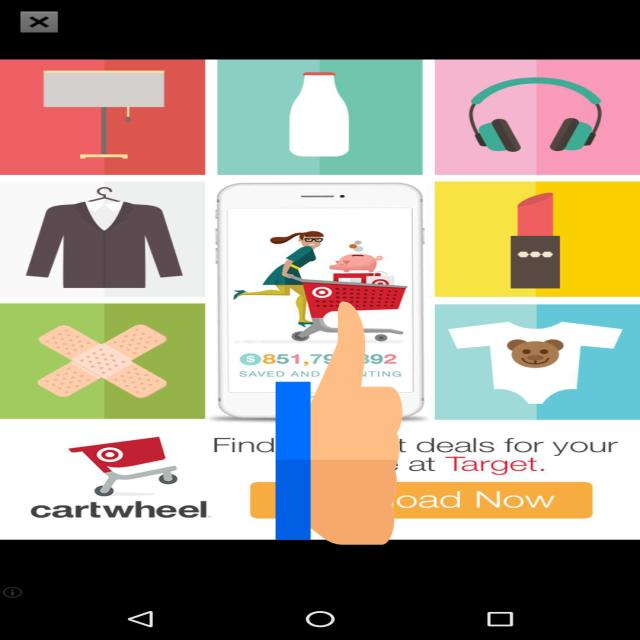privacy zuckering: (276, 295, 402, 551)
